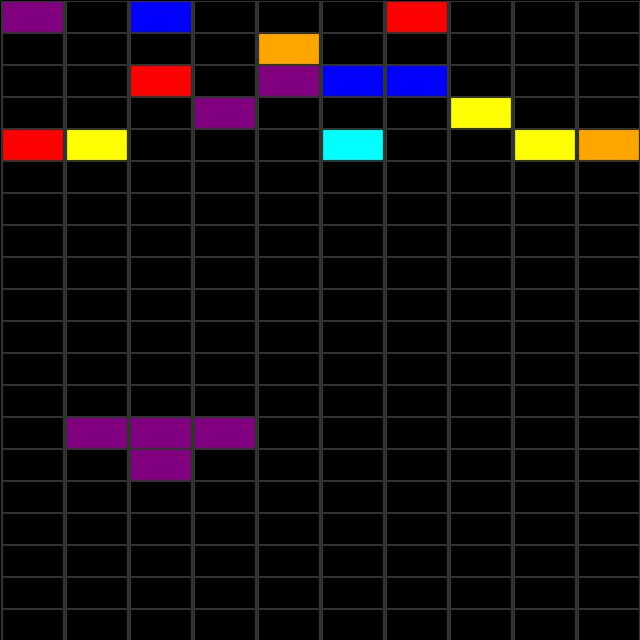Tetrimino_J: (64, 415, 252, 480)
